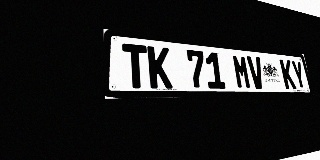1: (204, 51, 226, 89)
7: (185, 50, 208, 89)
K: (147, 46, 173, 89), (279, 59, 297, 89)
M: (232, 54, 252, 89)
T: (122, 43, 149, 88)
V: (246, 56, 266, 89)
Y: (290, 60, 307, 89)
